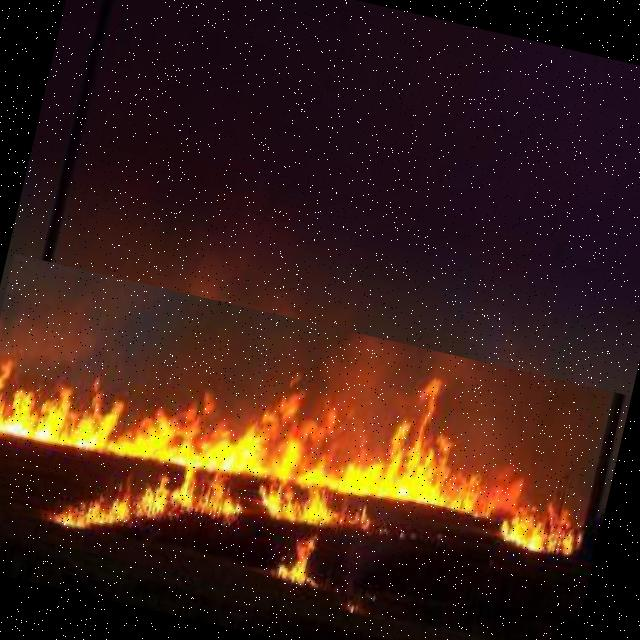fire: (0, 253, 630, 640)
